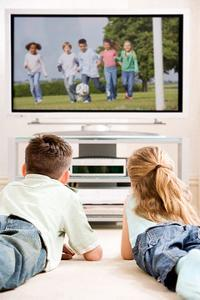person: (122, 146, 200, 298)
